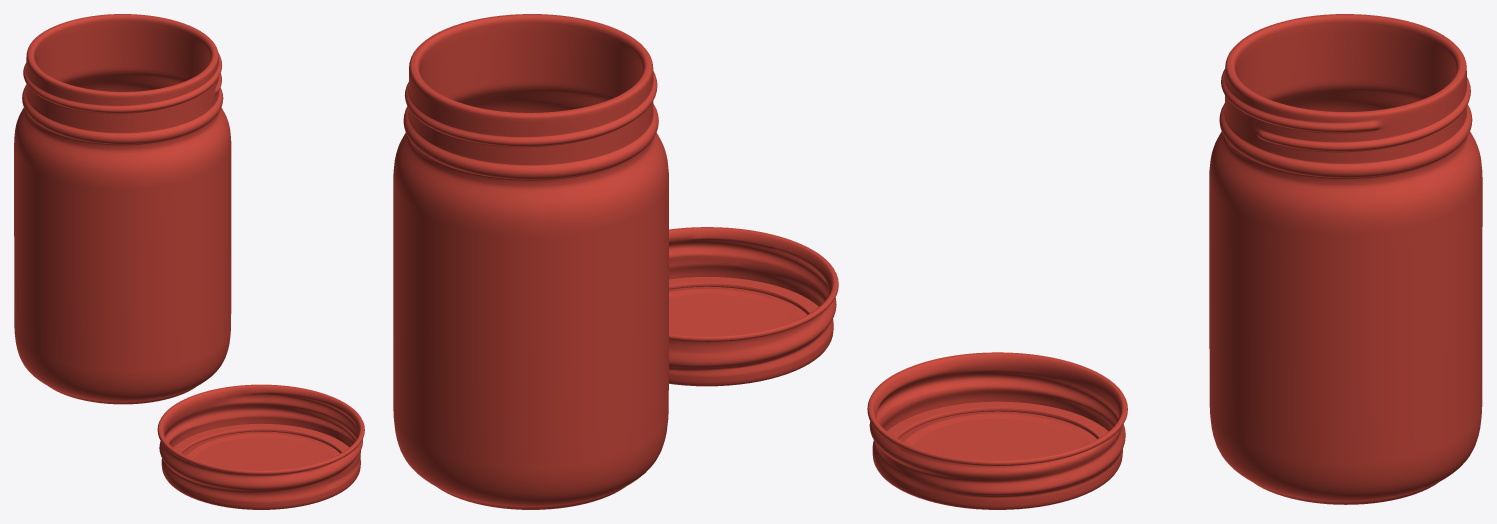
Rendered from container_jar_glass_red_a02.glb.
3 renders of one model, left to right at view 1: azimuth 30°, elevation 25°; view 2: azimuth 150°, elevation 25°; view 3: azimuth 270°, elevation 25°, orthographic. The views are drawn at different scales.
Size of the model in its own units: 0.1148 by 0.184 by 0.2588.
